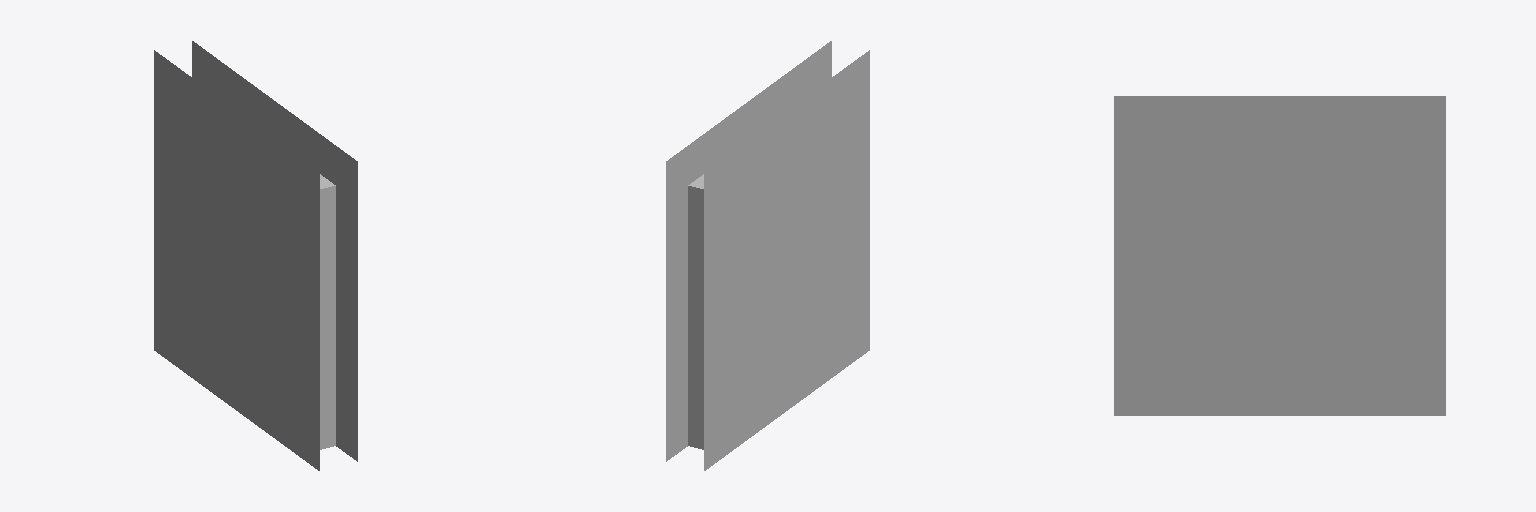
File: arc_1_wall_1_plain.obj
3 views of the same model, side by side, from view 1: azimuth 30°, elevation 25°; view 2: azimuth 150°, elevation 25°; view 3: azimuth 270°, elevation 25° (orthographic).
Parts seen in each view (by area): view 1: arc_1_wall_1_plain; view 2: arc_1_wall_1_plain; view 3: arc_1_wall_1_plain.
Boxes of the visible parts, <box> form: arc_1_wall_1_plain: <box>154,41,357,470</box>; arc_1_wall_1_plain: <box>666,41,869,470</box>; arc_1_wall_1_plain: <box>1114,96,1445,415</box>.
Bounding box in the file's own units: 0.4 × 3 × 3.